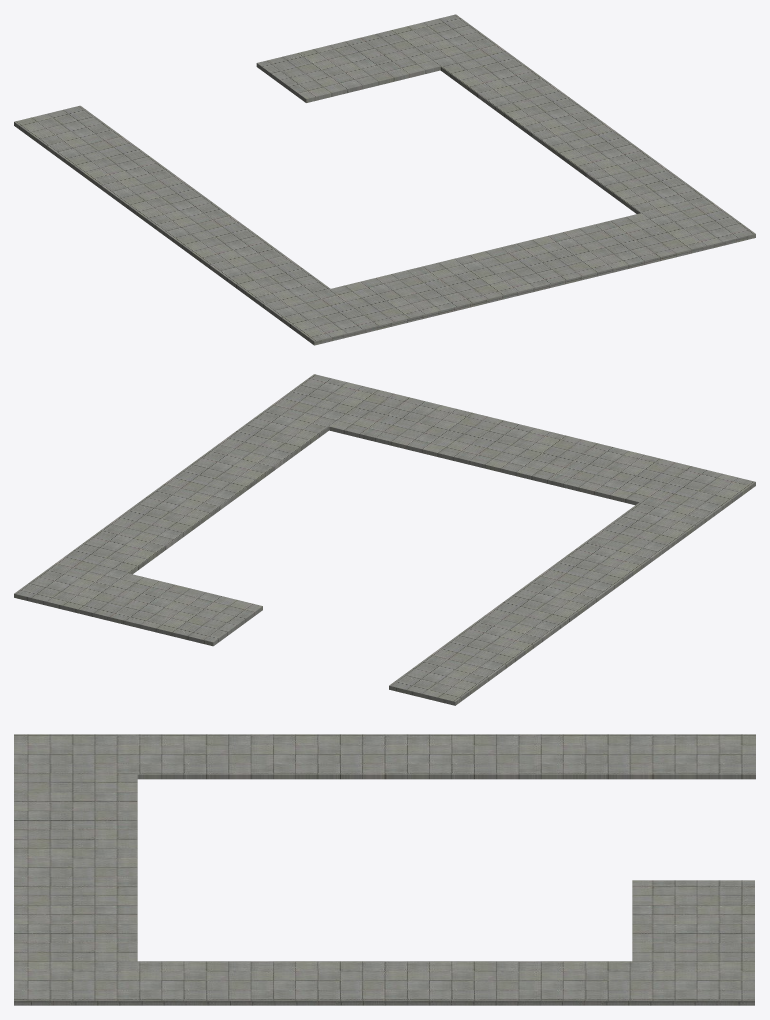
Rendered from Balcony_floor.fbx.
The picture shows the model from 3 angles, top to bottom: view 1: azimuth 30°, elevation 25°; view 2: azimuth 150°, elevation 25°; view 3: azimuth 270°, elevation 25°; orthographic projection. The views are drawn at different scales.
Parts seen in each view (by area): view 1: Balcony_floor; view 2: Balcony_floor; view 3: Balcony_floor.
Part boxes in pixels (x1=…): Balcony_floor: x1=14, y1=14, x2=755, y2=345; Balcony_floor: x1=14, y1=374, x2=755, y2=705; Balcony_floor: x1=14, y1=734, x2=755, y2=1005.
Bounding box in the file's own units: 29.49 × 0.2547 × 34.75.
